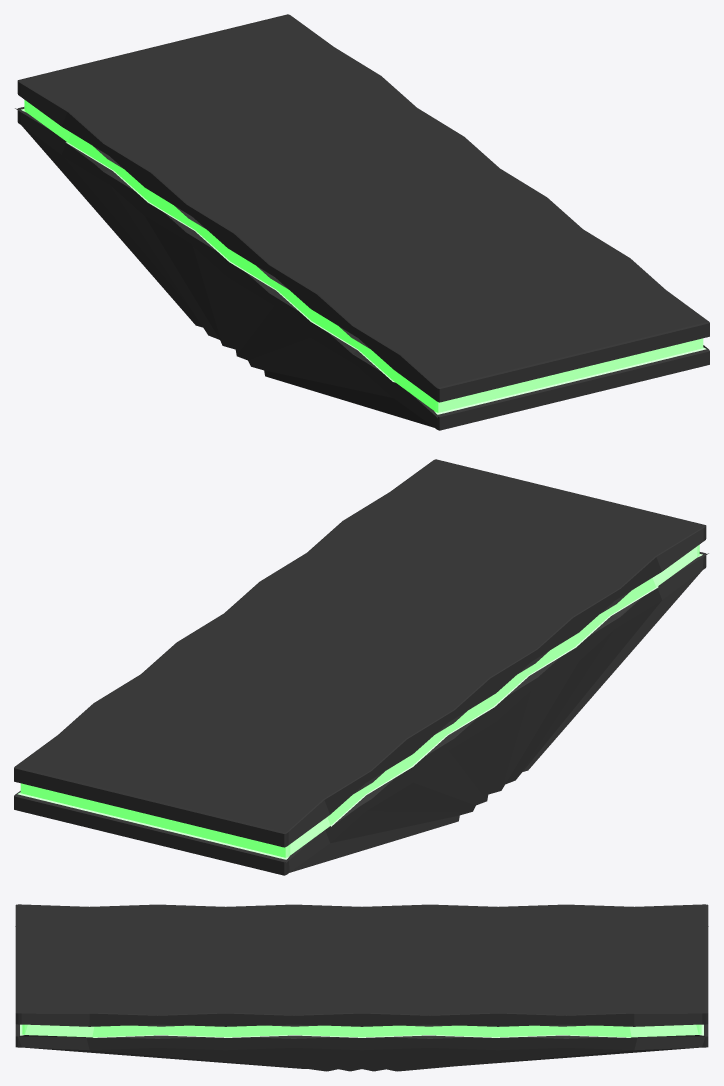
File: LabShelf.fbx
The picture shows the model from 3 angles, top to bottom: view 1: azimuth 30°, elevation 25°; view 2: azimuth 150°, elevation 25°; view 3: azimuth 270°, elevation 25°; orthographic projection. The views are drawn at different scales.
Visible parts, largest first — view 1: Cube; view 2: Cube; view 3: Cube.
Boxes of the visible parts, left/top/right/bottom form: Cube: left=15, top=14, right=709, bottom=430; Cube: left=14, top=459, right=708, bottom=875; Cube: left=15, top=904, right=708, bottom=1071.
Bounding box in the file's own units: 206 × 82.32 × 540.
